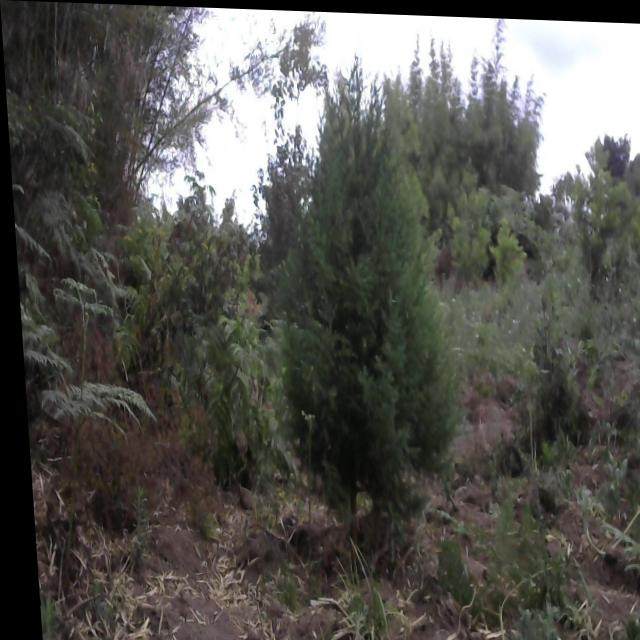cedrus: (268, 81, 455, 505)
